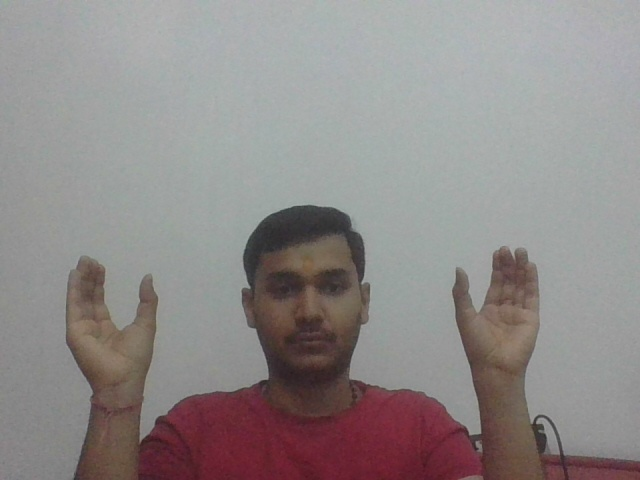U: (64, 251, 159, 388), (450, 244, 544, 377)
